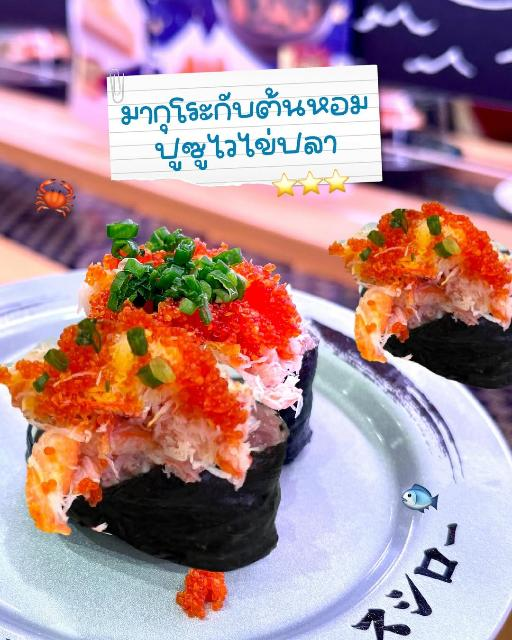janwhite: (0, 257, 462, 640)
